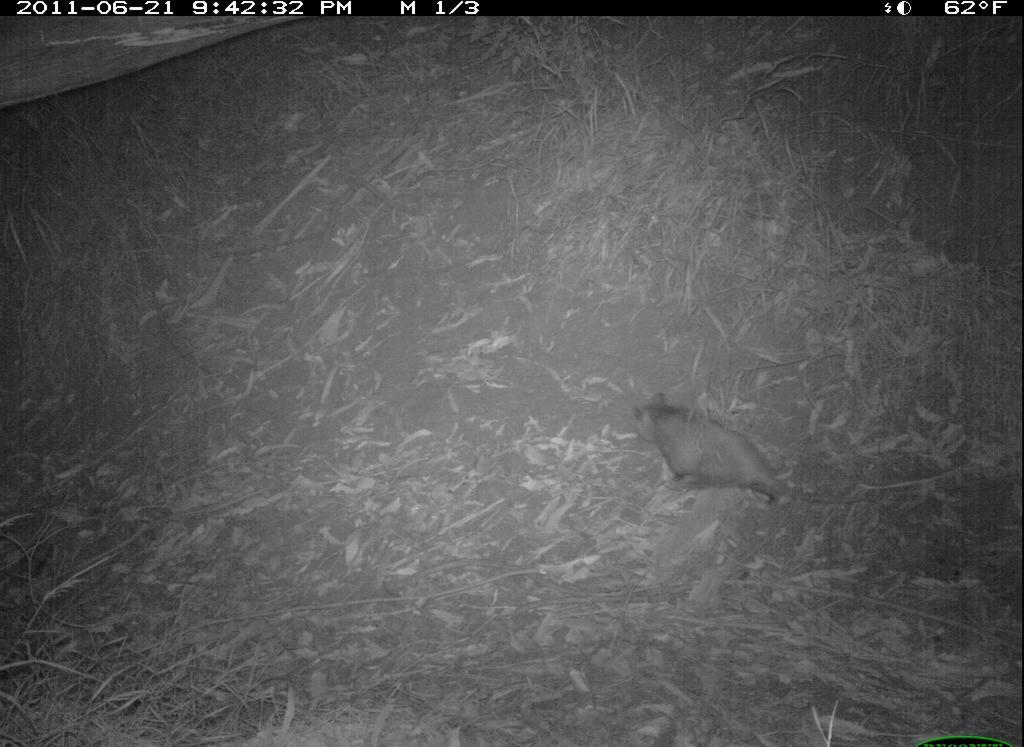opossum: (623, 381, 876, 516)
